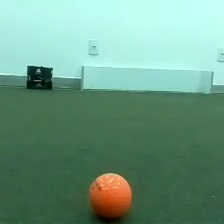ball: (86, 169, 134, 222)
goal: (78, 63, 216, 96)
robot: (25, 63, 54, 91)
